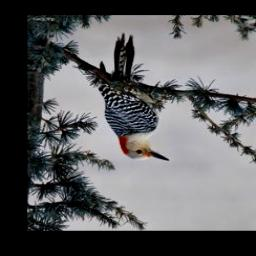Woodpecker: (99, 35, 170, 162)
